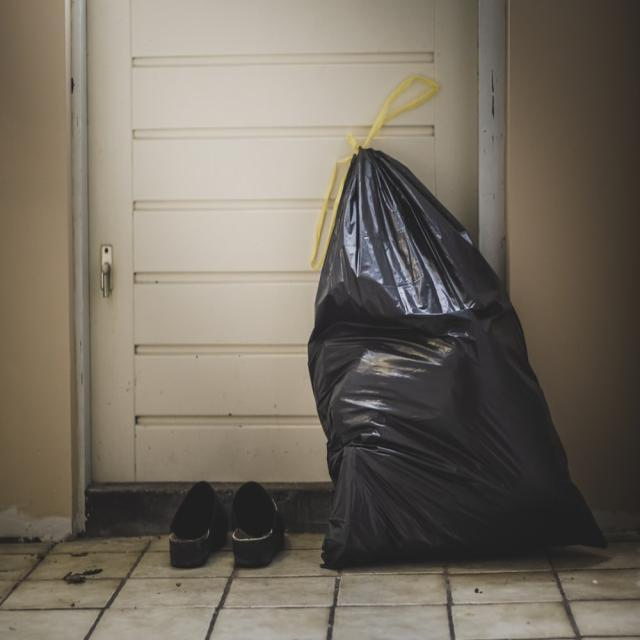Vinyl: (282, 71, 620, 575)
